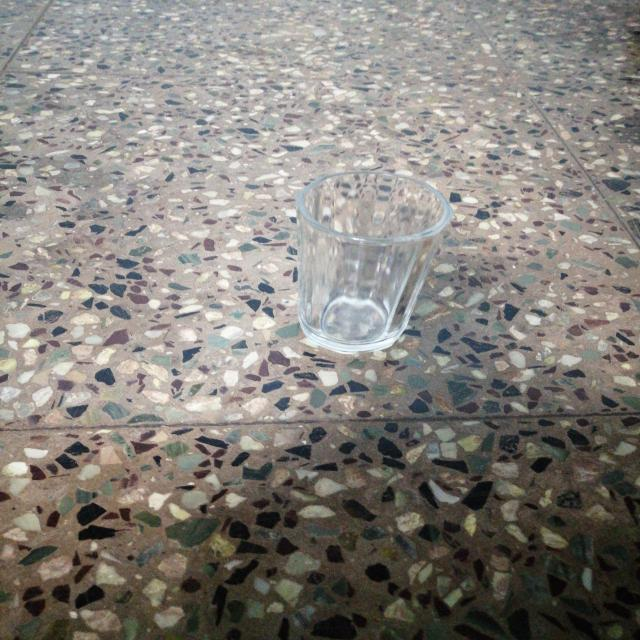Glass: (291, 168, 455, 356)
